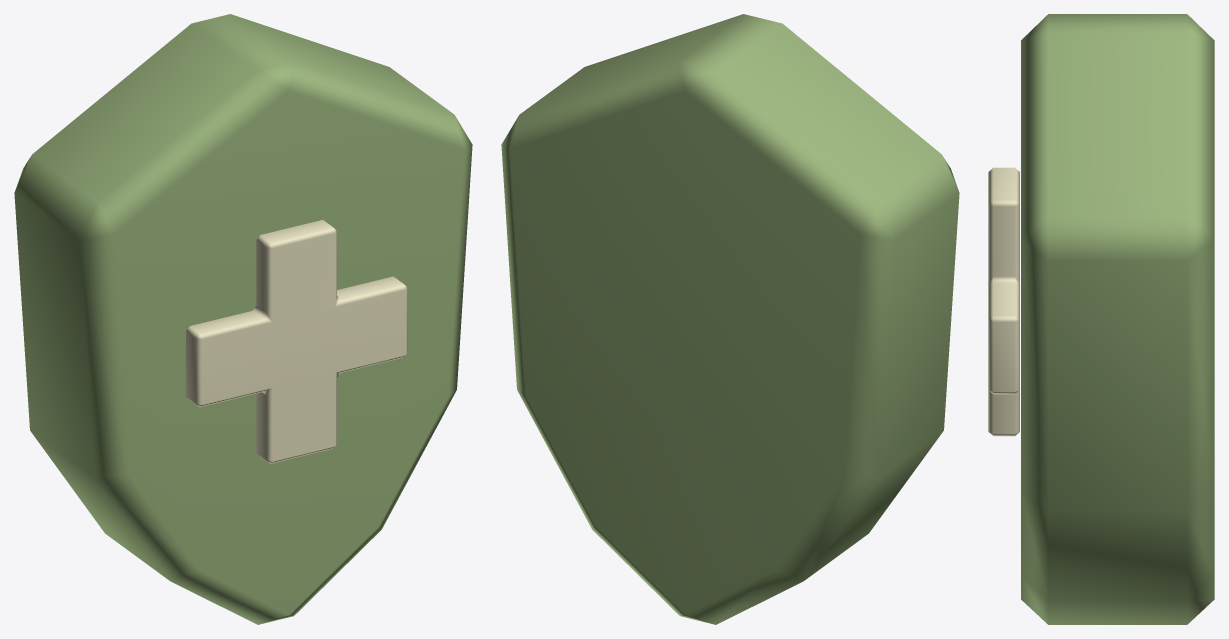
File: bonus_vehicle_repair.glb
3 renders of one model, left to right at view 1: azimuth 30°, elevation 25°; view 2: azimuth 150°, elevation 25°; view 3: azimuth 270°, elevation 25°, orthographic. The views are drawn at different scales.
Parts seen in each view (by area): view 1: Shield.001, Armor cross.001; view 2: Shield.001; view 3: Shield.001, Armor cross.001.
Part boxes in pixels (left/top/right/bottom): Shield.001: left=14, top=14, right=472, bottom=624; Armor cross.001: left=186, top=220, right=407, bottom=463; Shield.001: left=501, top=14, right=959, bottom=624; Shield.001: left=1021, top=14, right=1214, bottom=624; Armor cross.001: left=988, top=167, right=1019, bottom=436.
Size of the model in its own units: 1.15 by 1.55 by 0.5375.
